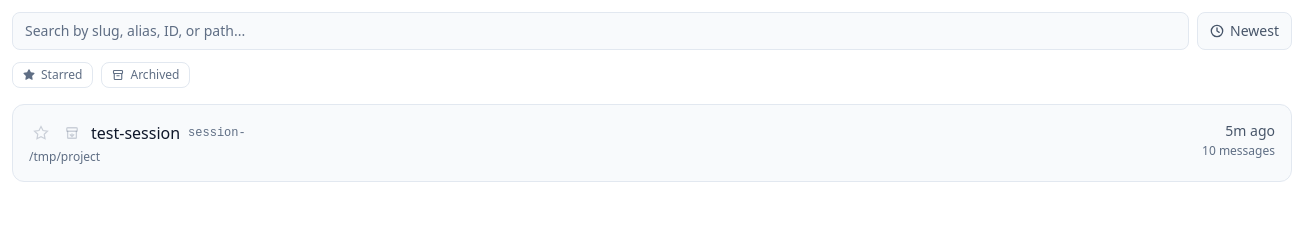
it: SessionList › shows Clear filters button when filters are active
The width and height of the screenshot is (1304, 234).
Click the button "Starred": coordinates (53, 75) [12,62,94,88]
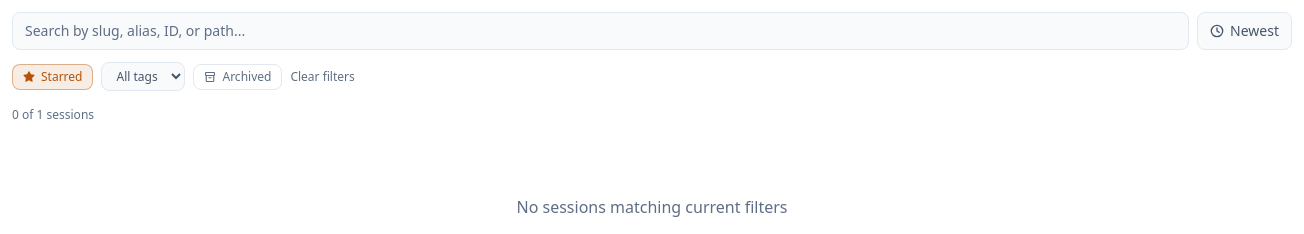
Expected: the button "Clear filters" is shown, [290,68,355,84]
